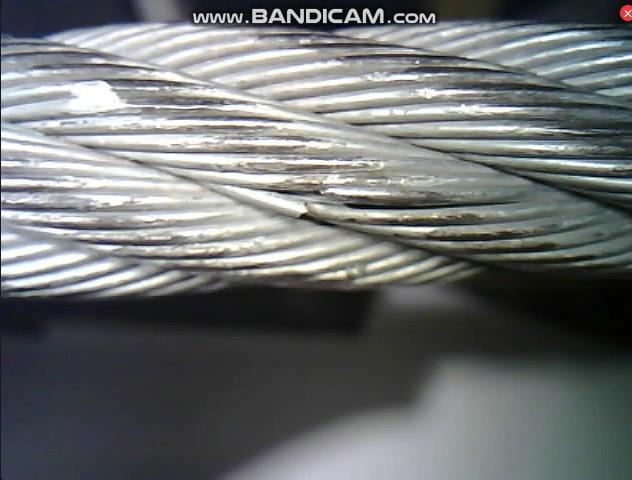break: (277, 176, 359, 242)
